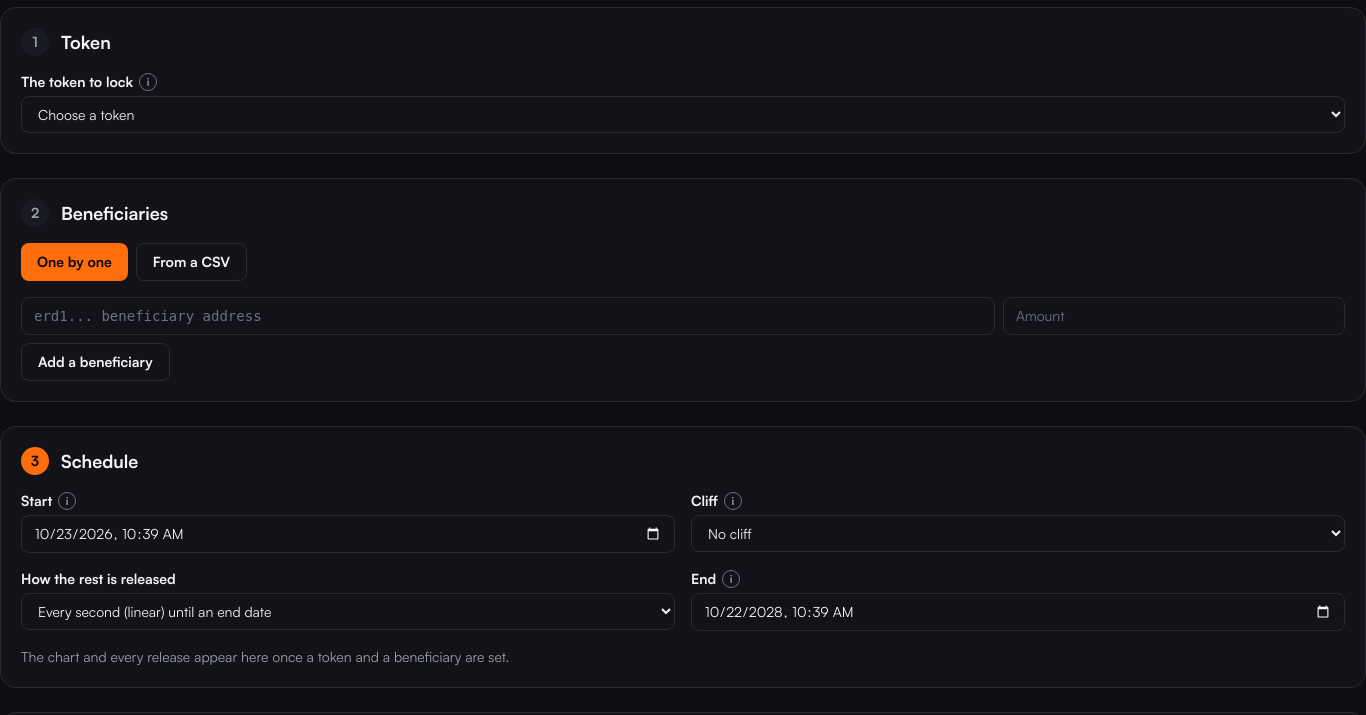
safe: an EGLD vesting with both fees › safe: shows total + token fee + EGLD fee as what is paid, and counts all three against the balance
Step 1. Select "EGLD (EGLD): 1,000" in the dropdown showing "Choose a token" below "The token to lock" → (683, 114), box left=21, top=96, right=1345, bottom=133
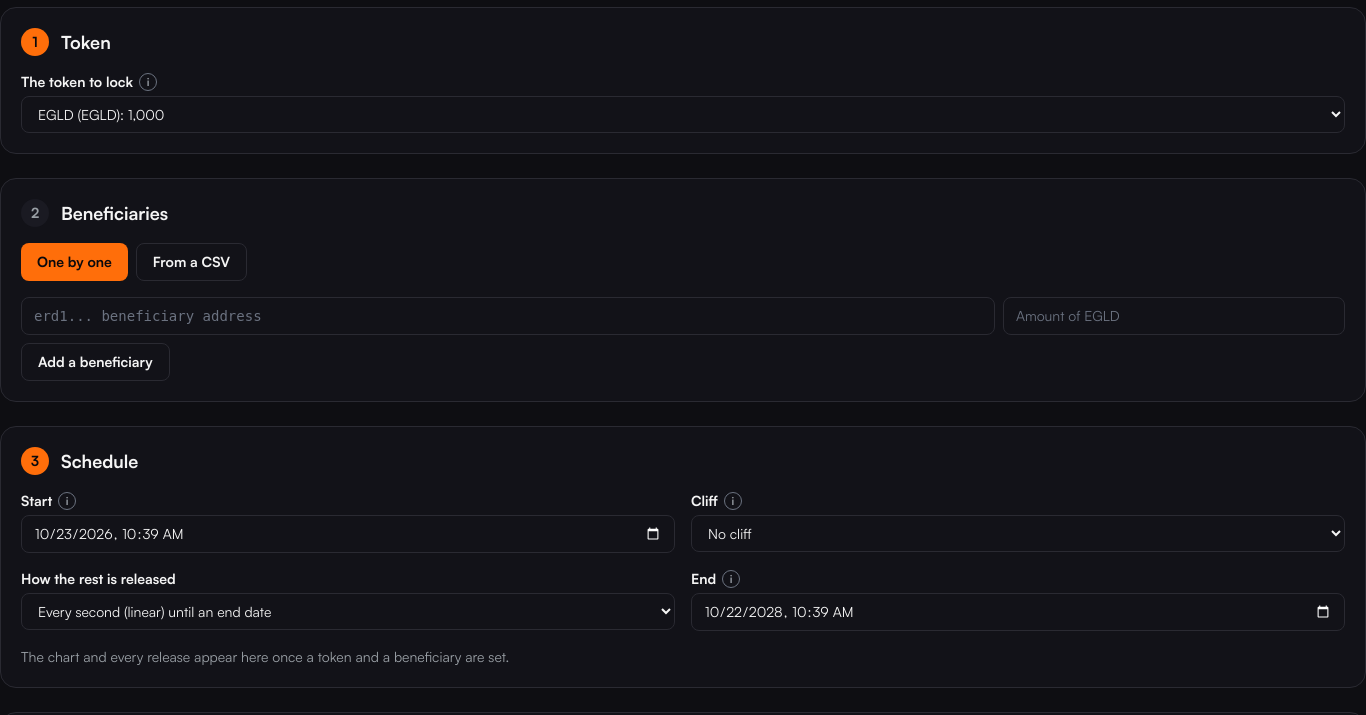
Step 2. Type "erd14e7zqk5qz47fu7z75rmvzrzt5cvmffe9n7s73679xt6khu09erksehgl4u" into the field with placeholder "erd1... beneficiary address" → (508, 316), box left=21, top=297, right=995, bottom=335
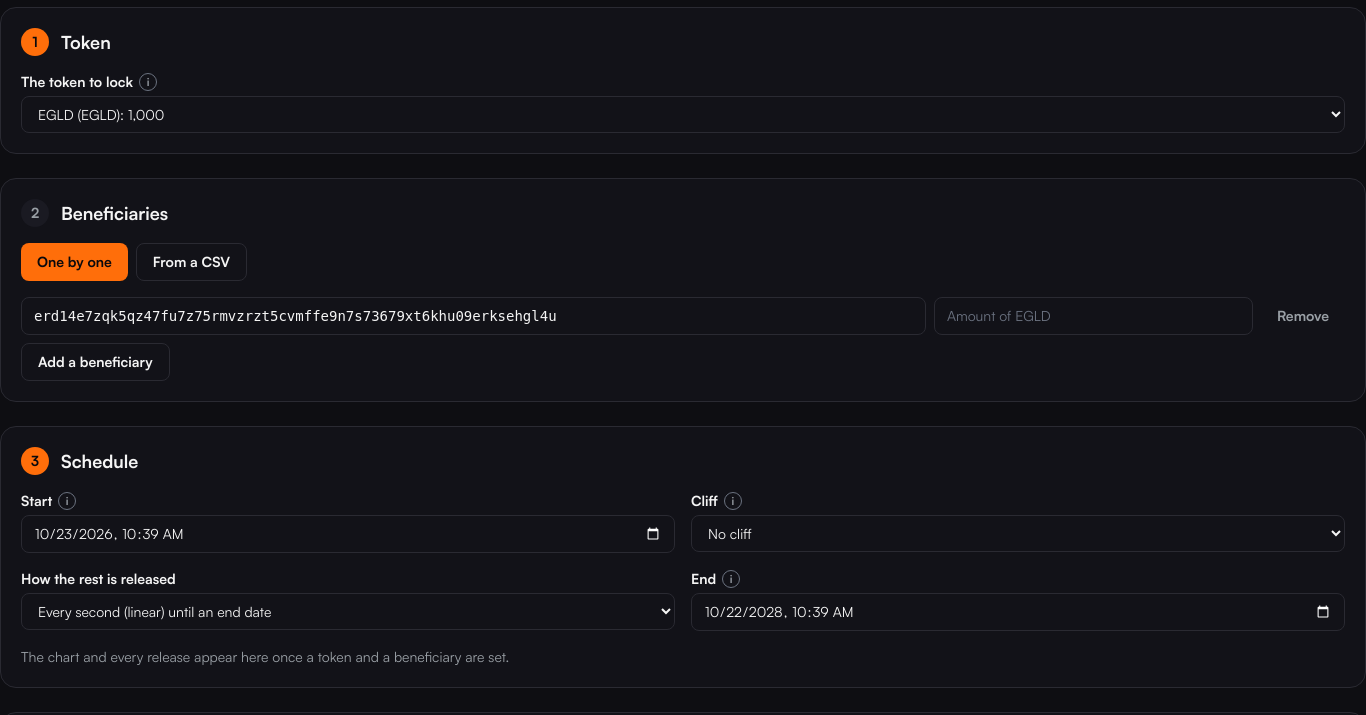
Step 3. Type "999" into the field with placeholder "Amount of EGLD" → (1094, 316), box left=934, top=297, right=1253, bottom=335
(page scrolled)
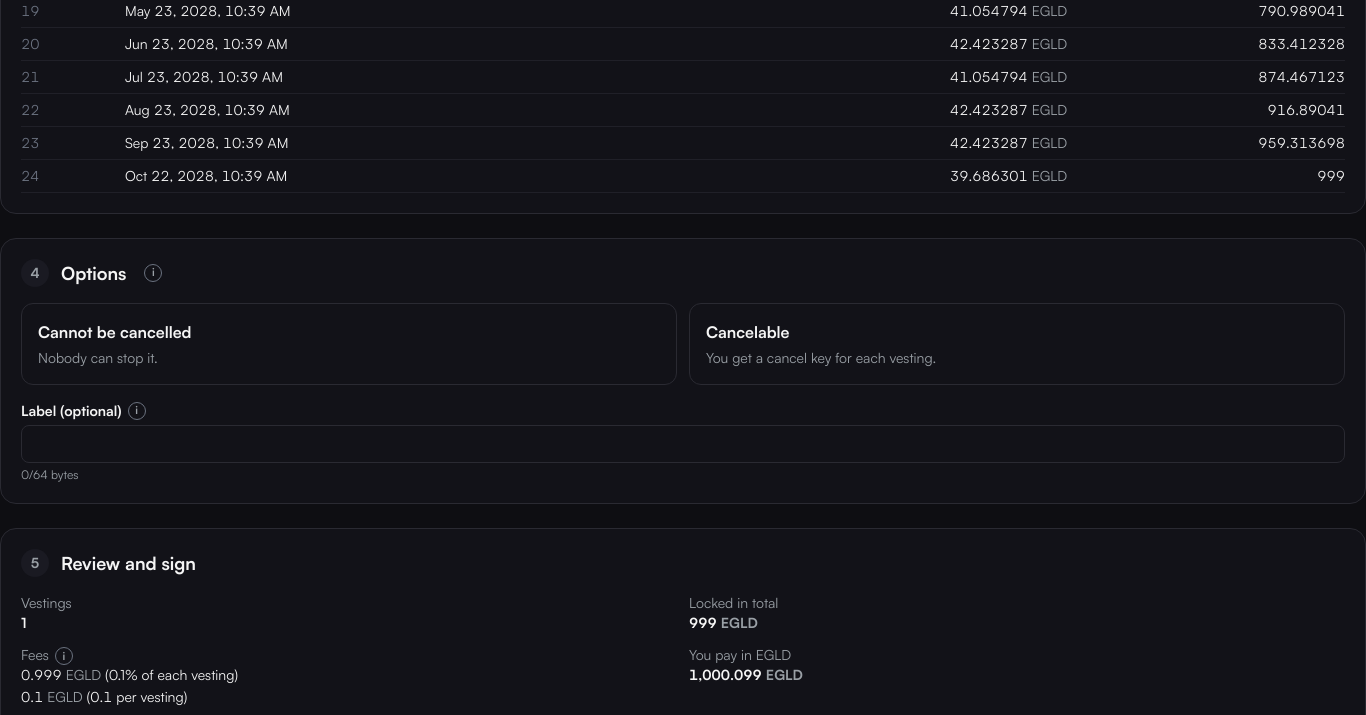
Step 4. Click the text "Cannot be cancelled" → (115, 332), box left=38, top=322, right=192, bottom=342
(page scrolled)
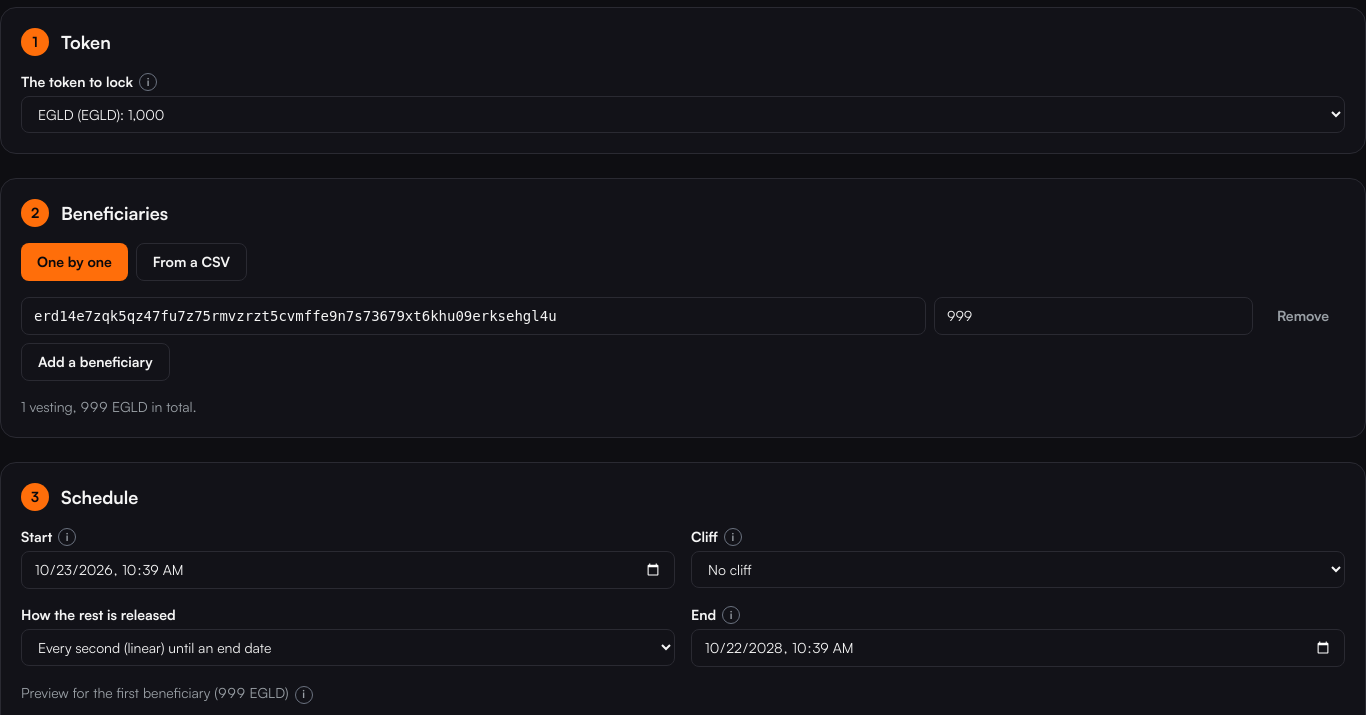
Step 5. Replace the text in the 2nd field with placeholder "Amount of EGLD" with "900" → (1094, 316), box left=934, top=297, right=1253, bottom=335
(page scrolled)
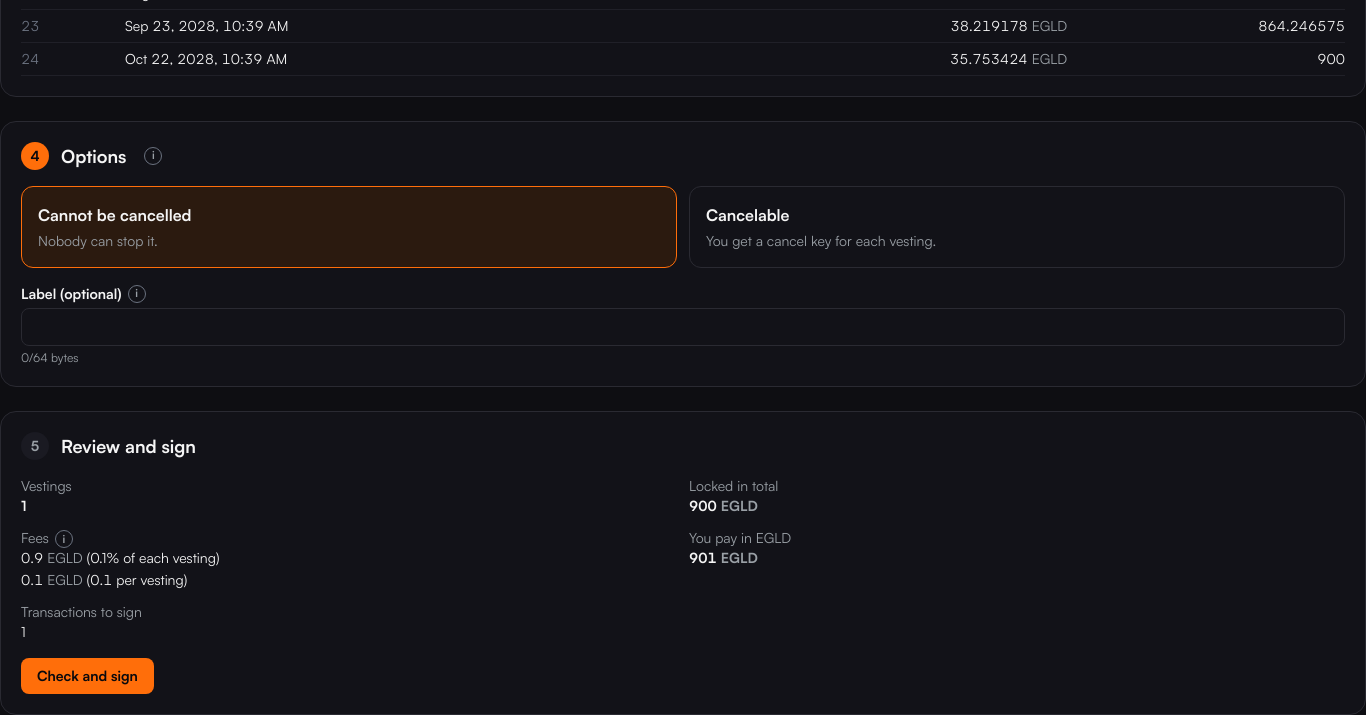
Step 6. Click the button "Check and sign" → (87, 676), box left=21, top=658, right=154, bottom=694
(page scrolled)
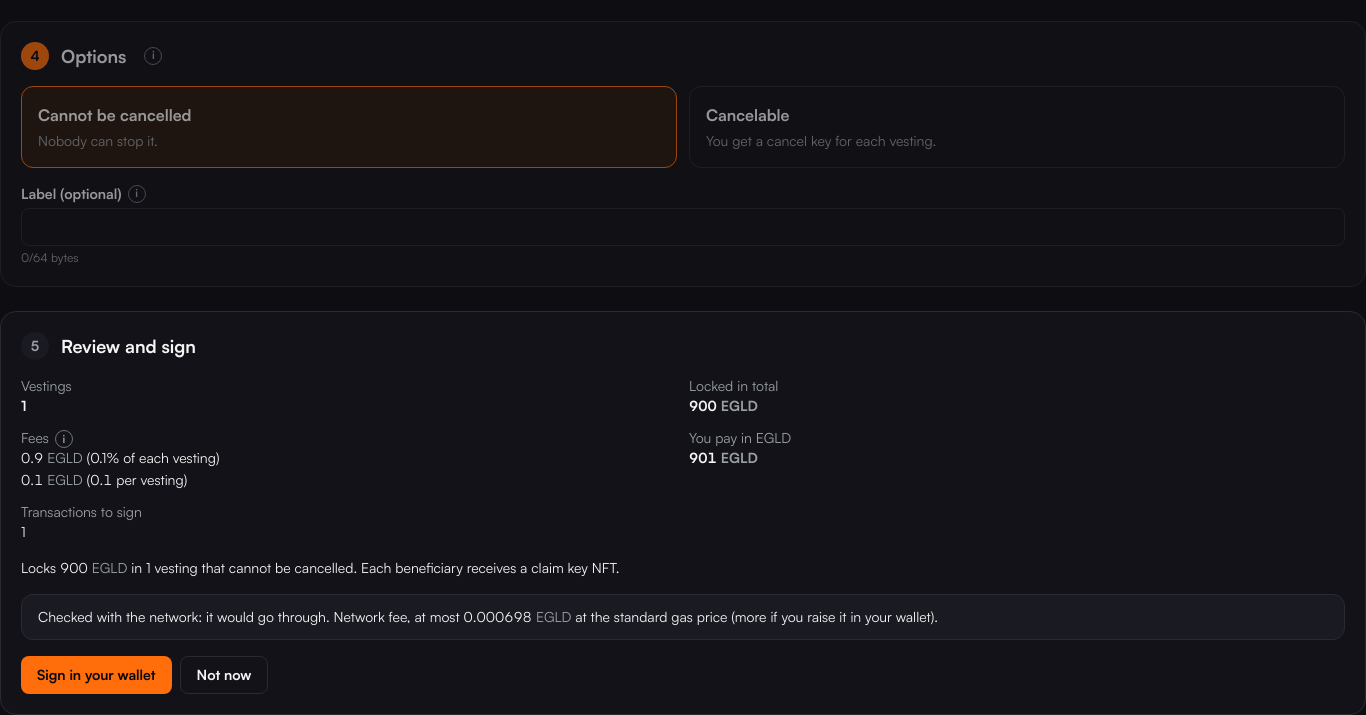
Expected: the text "Checked with the network" is shown, left=38, top=608, right=330, bottom=625
